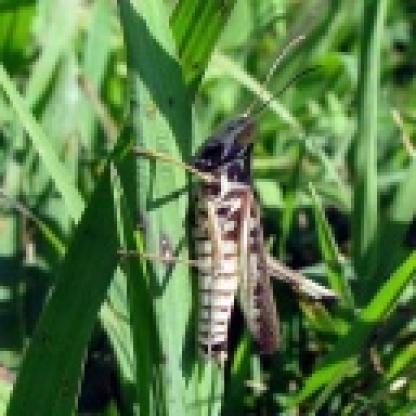grasshopper: (122, 32, 324, 356)
